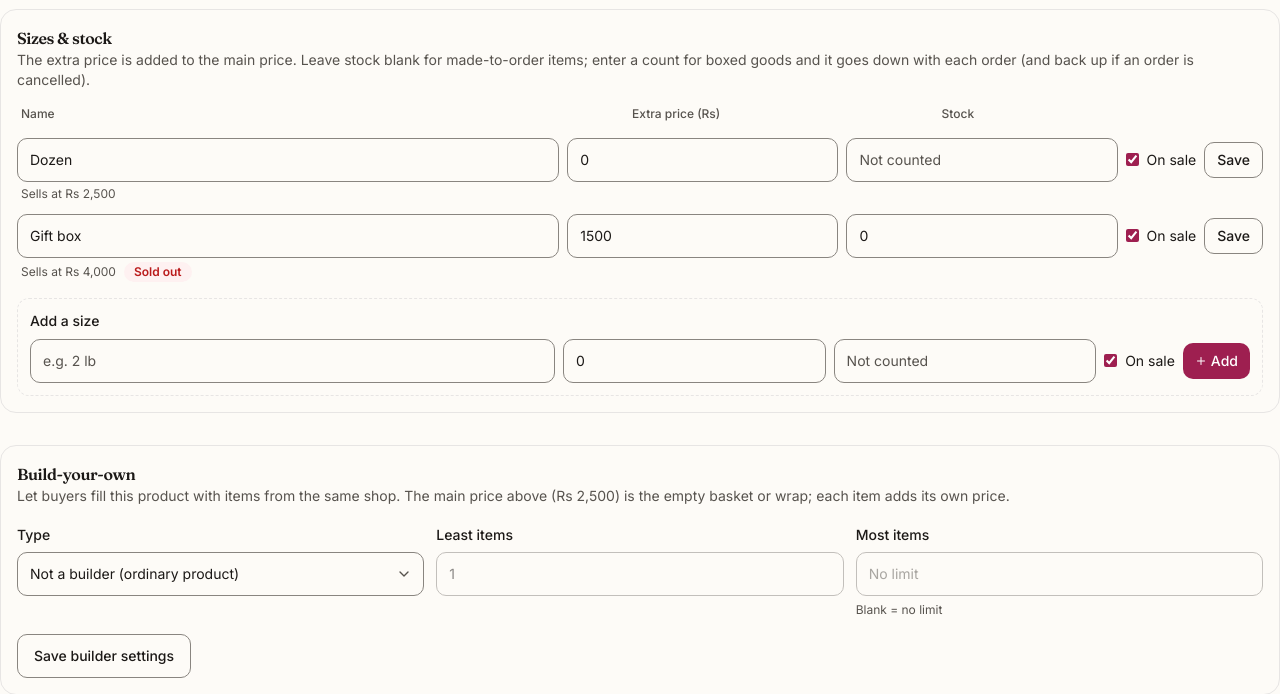
Test: ProductEditor › rejects a stock count that isn't a whole number
(page scrolled)
Type "Jar" into the field named "New size name". click: (293, 360)
box: top-left (30, 338), bottom-right (555, 382)
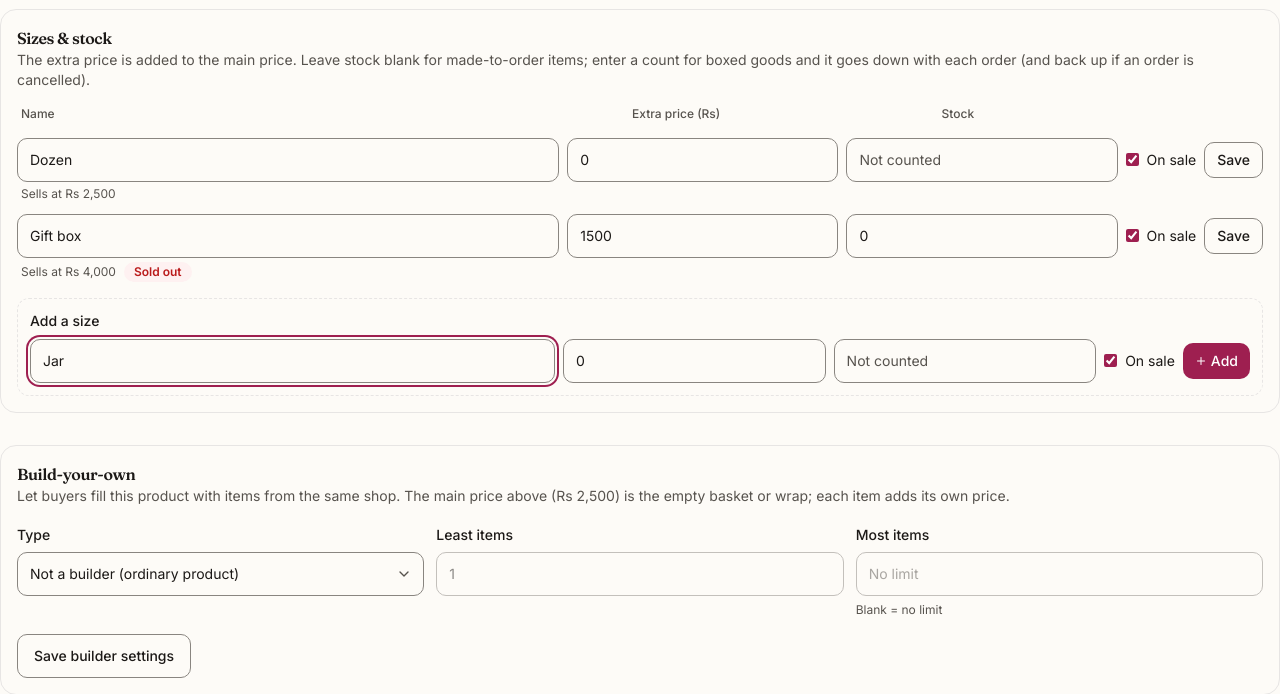
Type "lots" into the field named "New size stock". click: (965, 360)
box: top-left (834, 338), bottom-right (1096, 382)
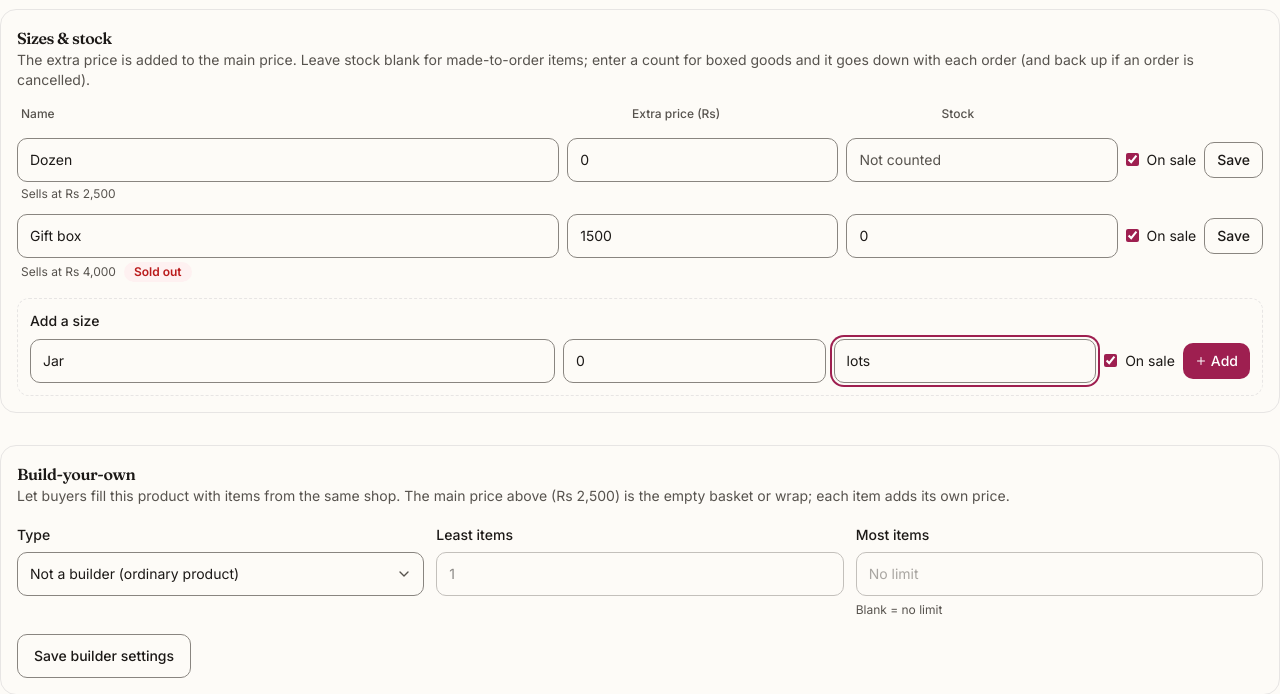
Click the button "Add". click: click(1216, 360)
box: top-left (1183, 342), bottom-right (1250, 378)
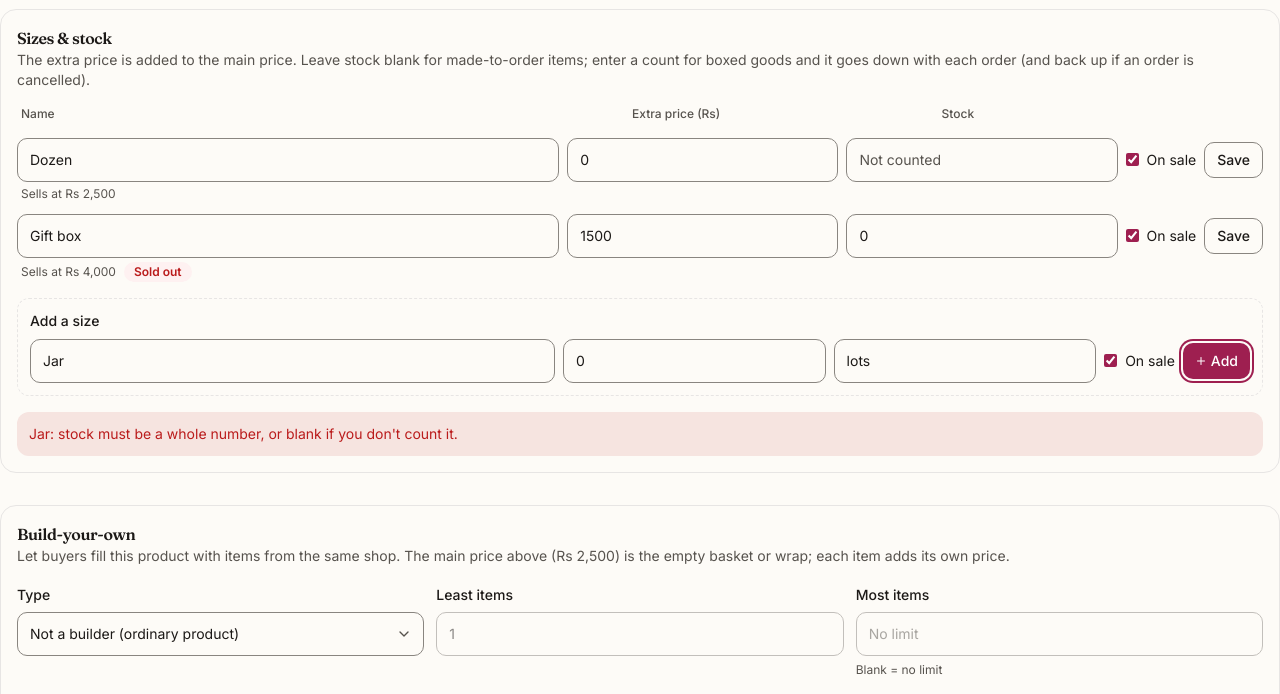
Check: the message shows "stock must be a whole number", box top-left (29, 424), bottom-right (458, 442)
